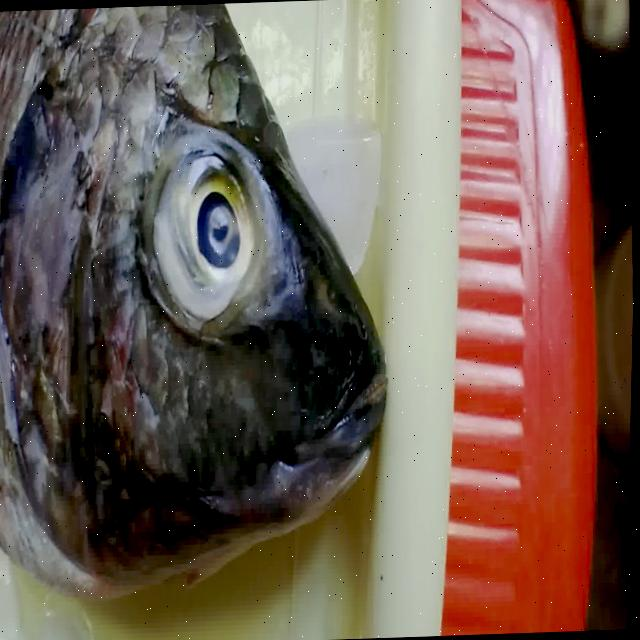Fresh: (128, 70, 312, 410)
